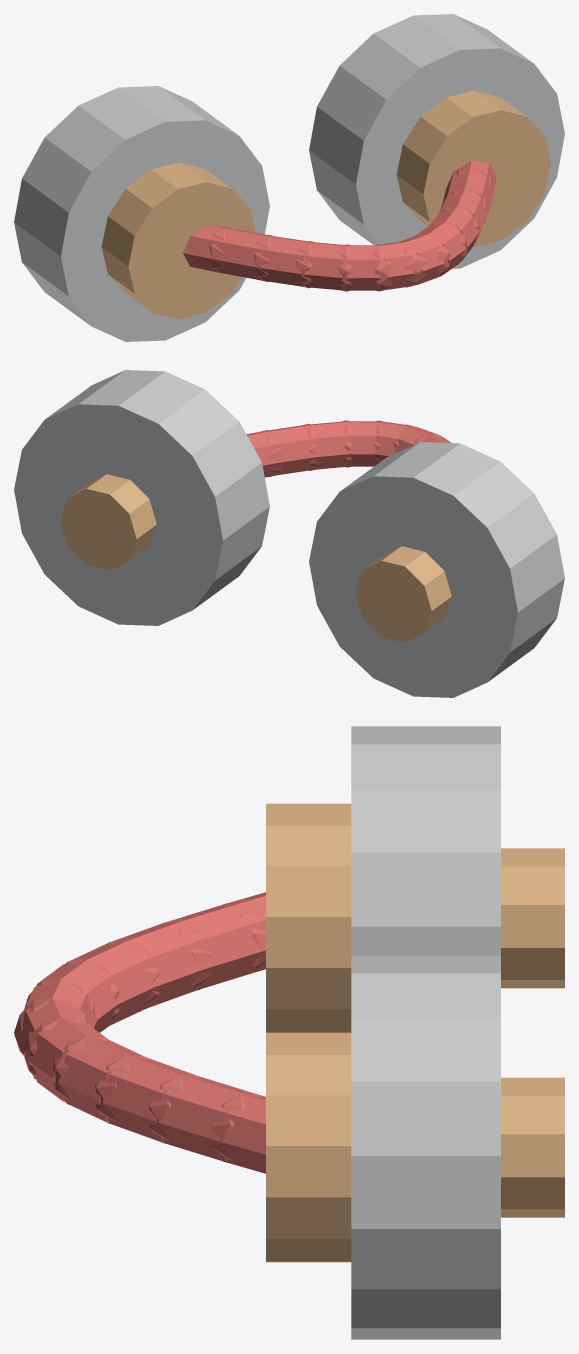
File: snap_wire.glb
The picture shows the model from 3 angles, top to bottom: view 1: azimuth 30°, elevation 25°; view 2: azimuth 150°, elevation 25°; view 3: azimuth 270°, elevation 25°; orthographic projection. The views are drawn at different scales.
Parts seen in each view (by area): view 1: plastic_gray, copper, plastic_red; view 2: plastic_gray, copper, plastic_red; view 3: plastic_gray, copper, plastic_red.
Boxes of the visible parts, x1=… form: plastic_gray: x1=14, y1=14, x2=564, y2=341; copper: x1=101, y1=90, x2=550, y2=319; plastic_red: x1=183, y1=161, x2=496, y2=291; plastic_gray: x1=14, y1=370, x2=564, y2=697; copper: x1=60, y1=474, x2=451, y2=642; plastic_red: x1=246, y1=420, x2=451, y2=477; plastic_gray: x1=351, y1=726, x2=500, y2=1339; copper: x1=266, y1=803, x2=564, y2=1262; plastic_red: x1=14, y1=892, x2=265, y2=1173.
Size of the model in its own units: 0.0434 by 0.018 by 0.0258.
